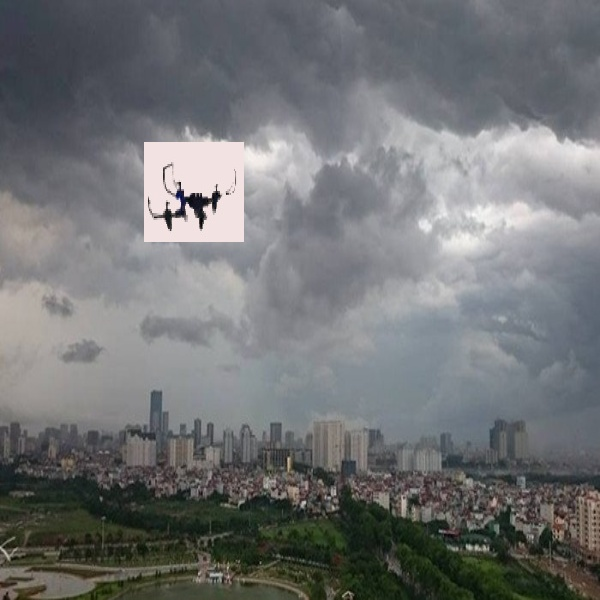drone: (143, 141, 244, 242)
